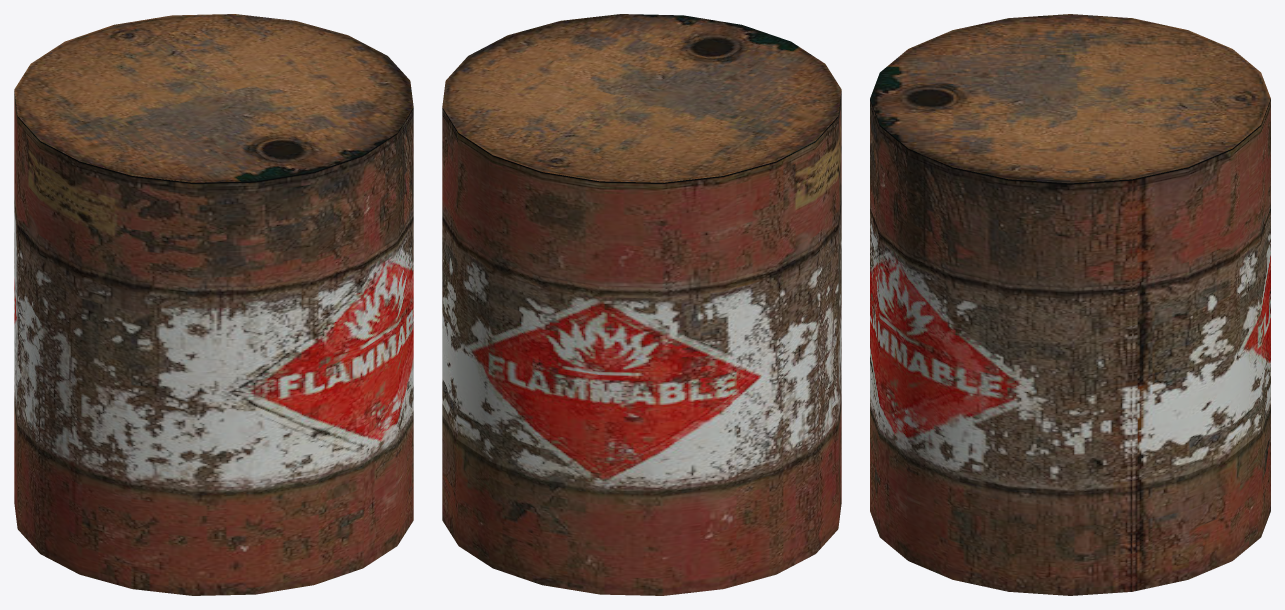
Rendered from barrel.fbx.
3 renders of one model, left to right at view 1: azimuth 30°, elevation 25°; view 2: azimuth 150°, elevation 25°; view 3: azimuth 270°, elevation 25°, orthographic.
Parts seen in each view (by area): view 1: pCylinder1; view 2: pCylinder1; view 3: pCylinder1.
Boxes of the visible parts, x1=… form: pCylinder1: x1=14, y1=14, x2=413, y2=595; pCylinder1: x1=442, y1=14, x2=841, y2=595; pCylinder1: x1=870, y1=14, x2=1270, y2=595.
Bounding box in the file's own units: 3.75 × 4.25 × 3.75.
Materials: 1 (1 with a texture image).
